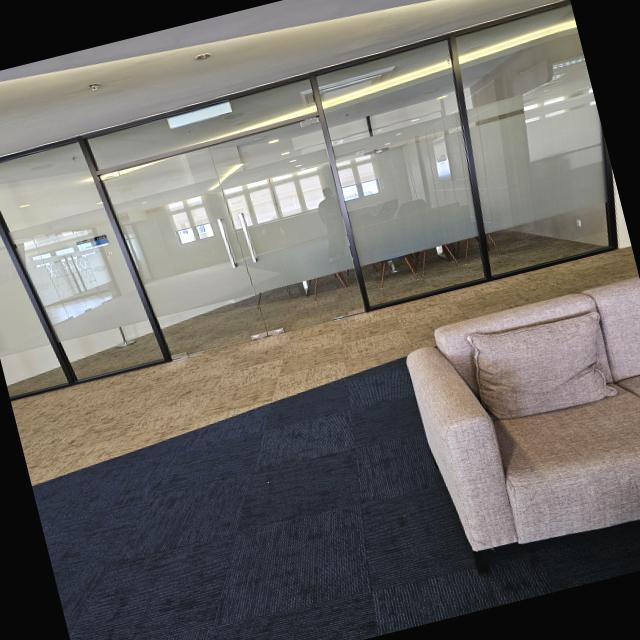door: (90, 106, 375, 370)
footpath: (12, 317, 457, 640)
obstacle: (395, 271, 640, 563)
